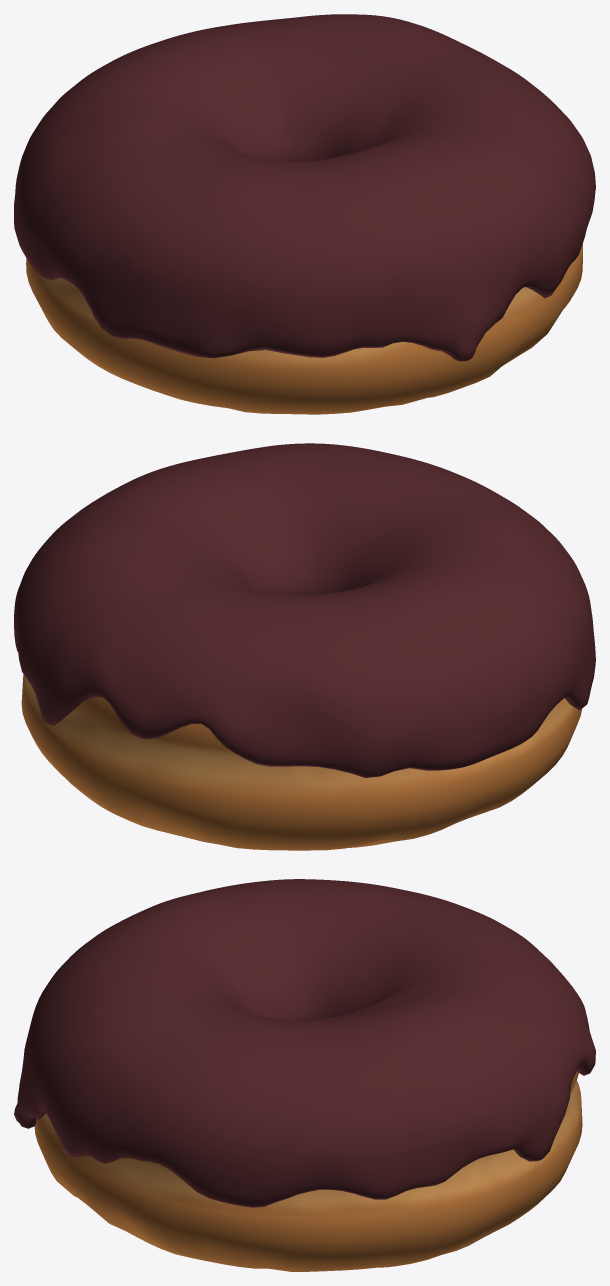
File: donut5.gltf
3 views of the same model, one above another, from view 1: azimuth 30°, elevation 25°; view 2: azimuth 150°, elevation 25°; view 3: azimuth 270°, elevation 25° (orthographic). The views are drawn at different scales.
Parts seen in each view (by area): view 1: Icing, Dough; view 2: Icing, Dough; view 3: Icing, Dough.
Part boxes in pixels (x1,y1,x2,y2): Icing: (14, 14, 595, 361); Dough: (26, 243, 582, 414); Icing: (14, 443, 595, 777); Dough: (21, 674, 582, 850); Icing: (14, 879, 595, 1207); Dough: (34, 1071, 582, 1271).
Bounding box in the file's own units: 0.9958 × 0.4563 × 1.02.
2 materials, 1 textured.
